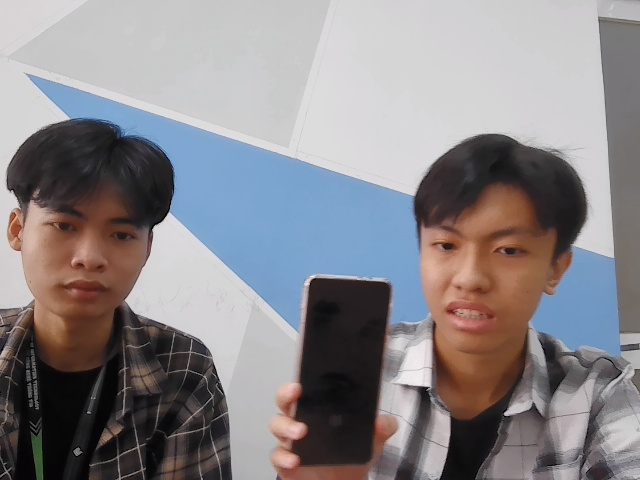human: (412, 129, 587, 353), (4, 121, 180, 321)
phone: (287, 273, 391, 470)
